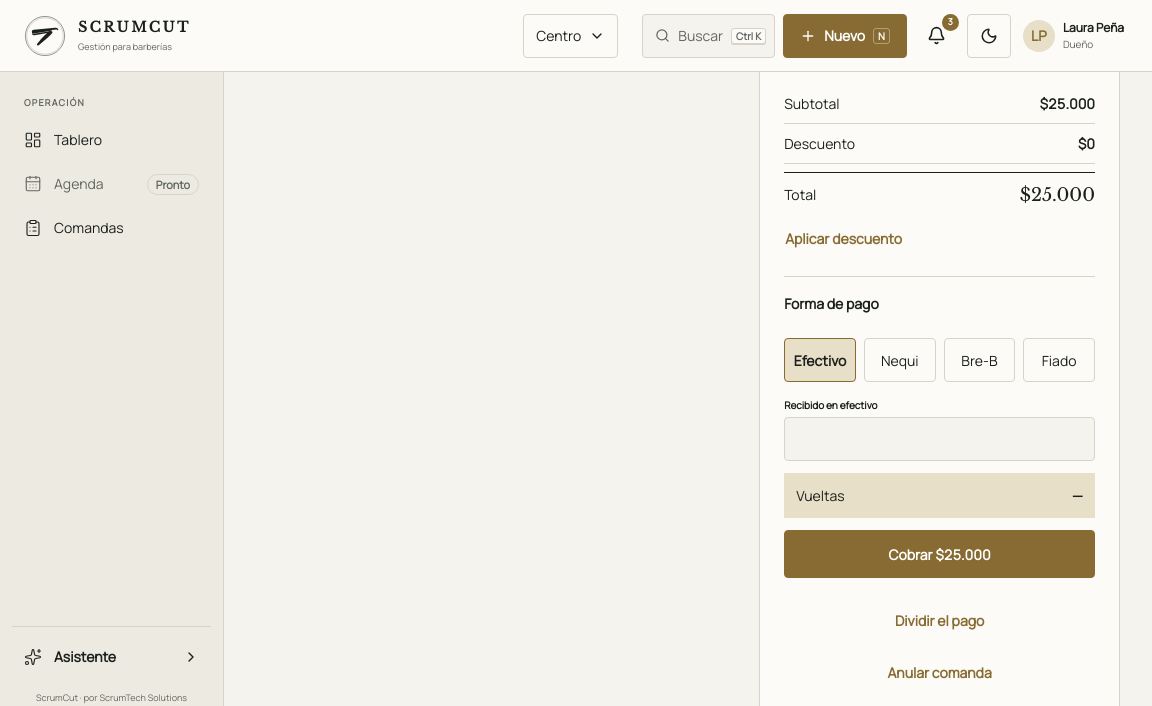
Test: cobro de una comanda › muestra el mensaje del servidor si el cobro no se hace
(page scrolled)
What coordinates should you click on to do the following:
click the radio button labelled "Nequi"
I would click on:
 (900, 360)
Its box is [864,338,936,382].
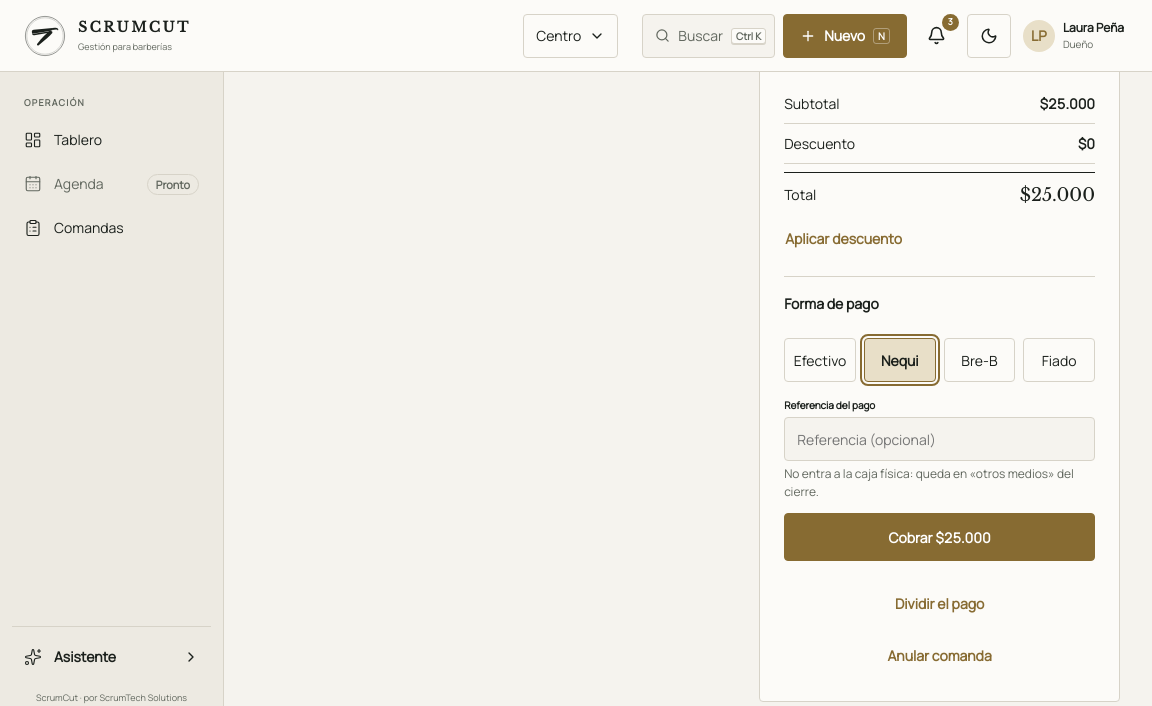
What coordinates should you click on to do the following:
click the button "Cobrar $25.000"
I would click on:
 (940, 537)
Its box is [784,513,1095,561].
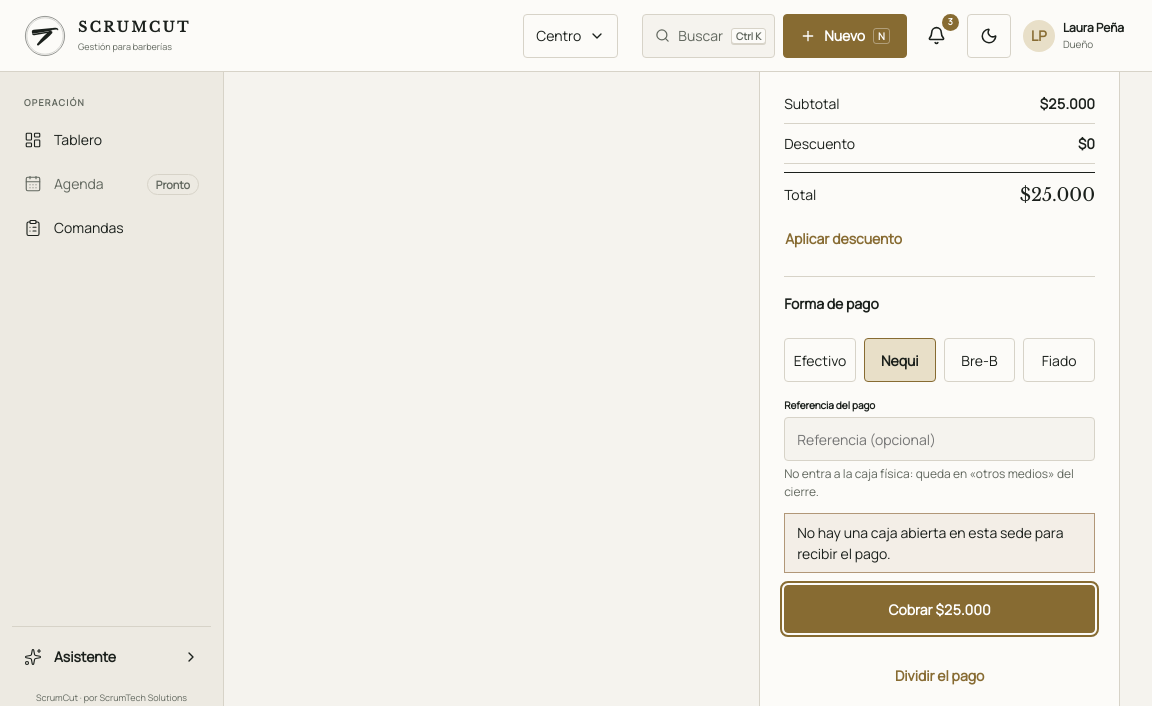
Expected: the message reads "No hay una caja abierta en esta sede para recibir el pago.", [797,523,1063,563]
